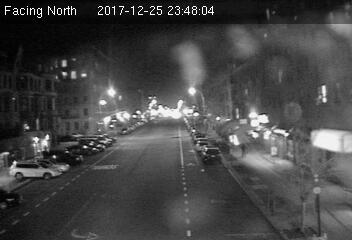car: (201, 145, 222, 163)
